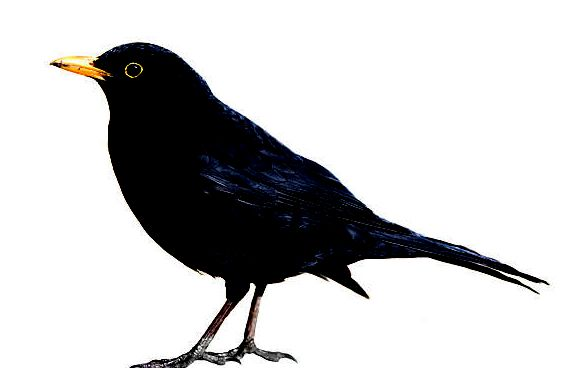Bird: (43, 38, 551, 366)
